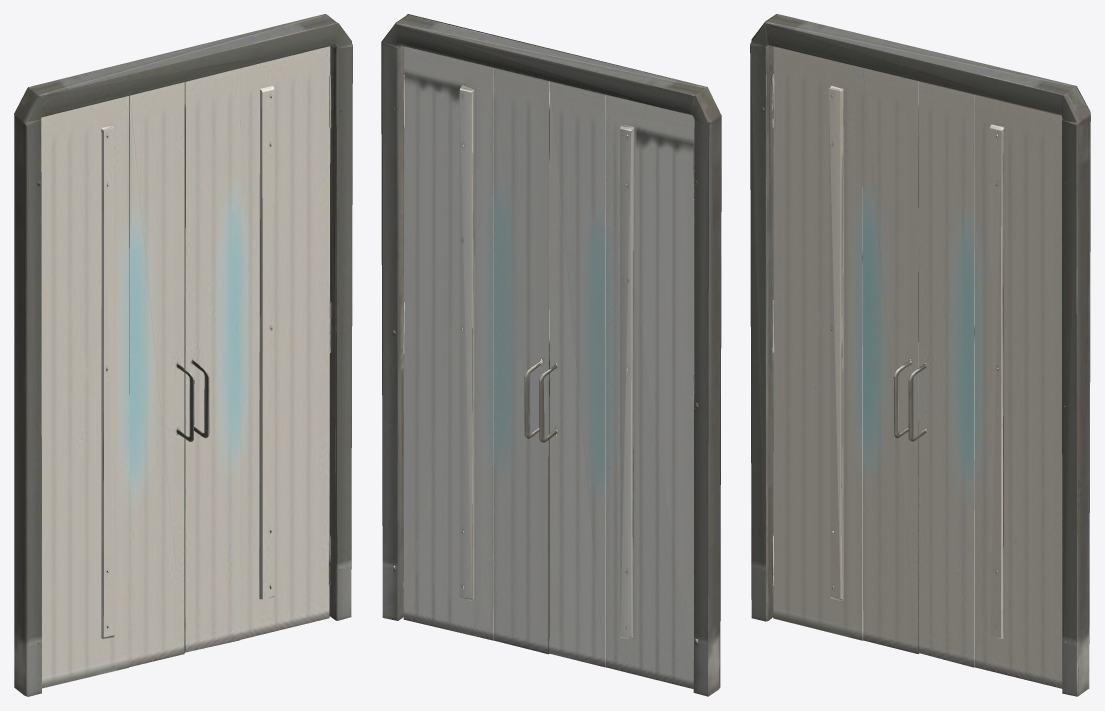
The model's file is sliding-door.glb.
3 views of the same model, side by side, from view 1: azimuth 30°, elevation 25°; view 2: azimuth 150°, elevation 25°; view 3: azimuth 330°, elevation 25° (orthographic).
Bounding box in the file's own units: 1.5 × 2.6 × 0.3.
Materials: 1 (1 with a texture image).
